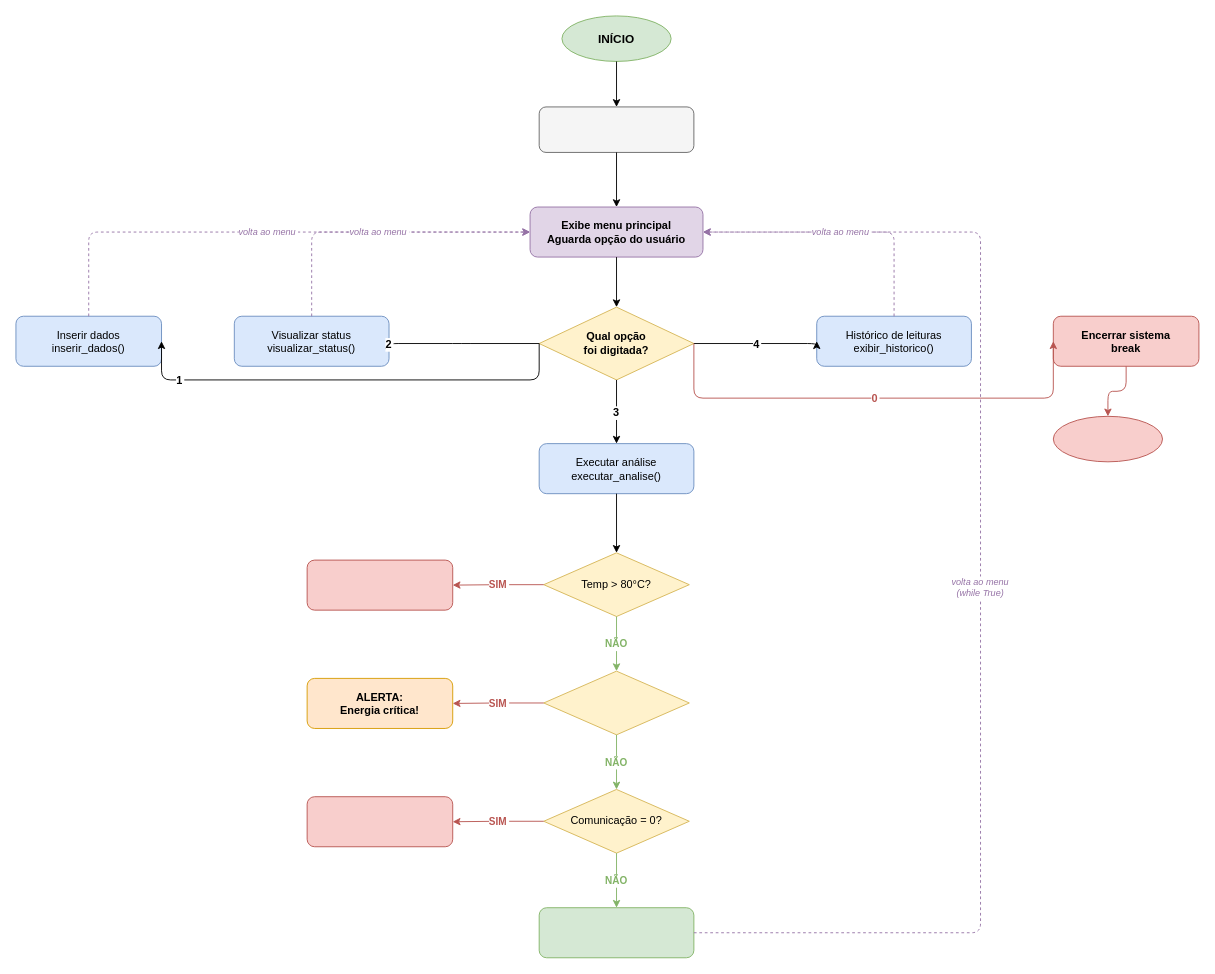
Some shapes in this 1215 by 974 pixel diagram are drawn without their labels. The centre of each missing label's shape, as x and y in pixels:
"ALERTA: Falha de comunicação!" belongs at (x=379, y=821).
"ALERTA: Superaquecimento!" belongs at (x=379, y=584).
"Energia < 20%?" belongs at (x=616, y=702).
"Exibe cabeçalho main()" belongs at (x=616, y=129).
"Exibe status geral EM RISCO ou OPERACIONAL" belongs at (x=616, y=932).
"FIM" belongs at (x=1107, y=438).
